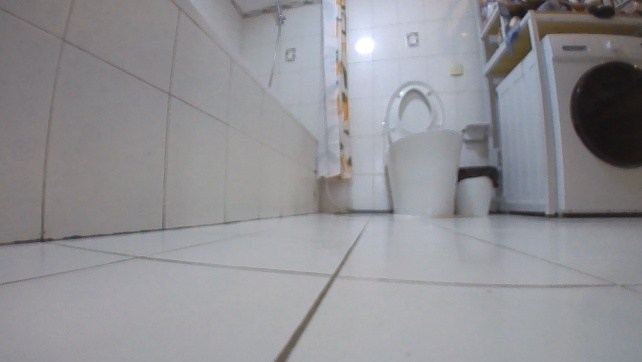toilet: (380, 77, 464, 218)
washing_machine: (491, 31, 641, 218)
